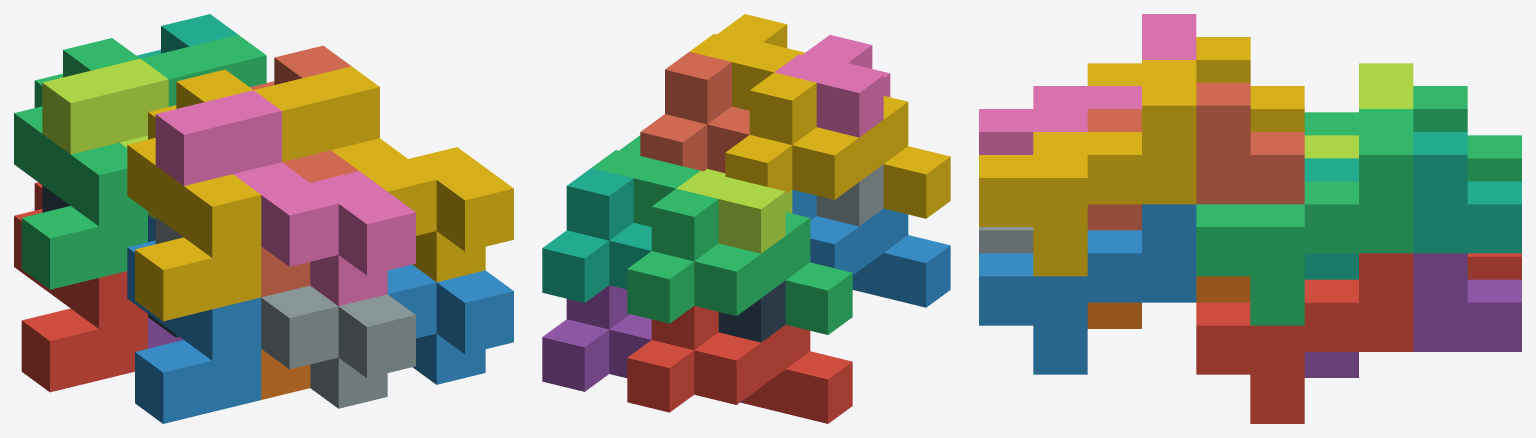
Rendered from tiling.obj.
3 views of the same model, side by side, from view 1: azimuth 30°, elevation 25°; view 2: azimuth 150°, elevation 25°; view 3: azimuth 270°, elevation 25° (orthographic). The views are drawn at different scales.
Parts seen in each view (by area): view 1: copy_2_domain_4, copy_2_domain_8, copy_1_domain_4, copy_1_domain_3, copy_2_domain_2, copy_1_domain_2, copy_1_domain_1, copy_2_domain_6, copy_2_domain_3, copy_1_domain_8, copy_2_domain_7, copy_1_domain_7 (+3 smaller); view 2: copy_1_domain_3, copy_1_domain_4, copy_1_domain_1, copy_1_domain_7, copy_1_domain_2, copy_1_domain_8, copy_1_domain_5, copy_2_domain_4, copy_2_domain_3, copy_2_domain_8, copy_2_domain_7, copy_2_domain_1 (+1 smaller); view 3: copy_2_domain_8, copy_2_domain_7, copy_2_domain_6, copy_2_domain_5, copy_1_domain_7, copy_1_domain_8, copy_1_domain_5, copy_2_domain_4, copy_1_domain_3, copy_1_domain_4, copy_2_domain_3, copy_1_domain_6 (+2 smaller).
Part boxes in pixels (x1,y1,x2,y2): copy_2_domain_4: [155, 90, 415, 306]; copy_2_domain_8: [254, 66, 513, 282]; copy_1_domain_4: [127, 69, 261, 321]; copy_1_domain_3: [14, 38, 147, 289]; copy_2_domain_2: [155, 217, 415, 408]; copy_1_domain_2: [127, 215, 261, 423]; copy_1_domain_1: [14, 182, 147, 392]; copy_2_domain_6: [387, 264, 513, 384]; copy_2_domain_3: [42, 58, 168, 219]; copy_1_domain_8: [250, 45, 358, 297]; copy_2_domain_7: [141, 34, 266, 106]; copy_1_domain_7: [137, 14, 237, 58]; copy_1_domain_3: [627, 188, 852, 334]; copy_1_domain_4: [725, 72, 950, 218]; copy_1_domain_1: [627, 306, 852, 423]; copy_1_domain_7: [542, 168, 651, 302]; copy_1_domain_2: [792, 189, 950, 307]; copy_1_domain_8: [640, 51, 749, 172]; copy_1_domain_5: [542, 285, 743, 402]; copy_2_domain_4: [774, 35, 890, 137]; copy_2_domain_3: [676, 169, 792, 253]; copy_2_domain_8: [690, 14, 804, 110]; copy_2_domain_7: [591, 135, 700, 226]; copy_2_domain_1: [718, 280, 785, 342]; copy_2_domain_8: [979, 60, 1196, 276]; copy_2_domain_7: [1196, 109, 1413, 325]; copy_2_domain_6: [979, 204, 1196, 374]; copy_2_domain_5: [1196, 253, 1413, 423]; copy_1_domain_7: [1304, 132, 1521, 279]; copy_1_domain_8: [1087, 83, 1304, 230]; copy_1_domain_5: [1304, 253, 1521, 377]; copy_2_domain_4: [979, 14, 1196, 154]; copy_1_domain_3: [1304, 86, 1521, 181]; copy_1_domain_4: [1087, 37, 1304, 131]; copy_2_domain_3: [1304, 63, 1413, 158]; copy_1_domain_6: [1087, 276, 1250, 328].
Bounding box in the file's own units: 6 × 6 × 10.
